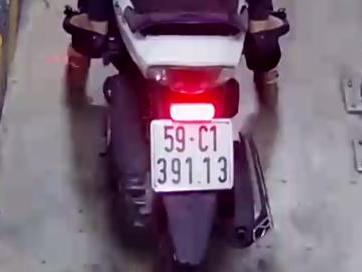num_plate: (148, 119, 235, 193)
